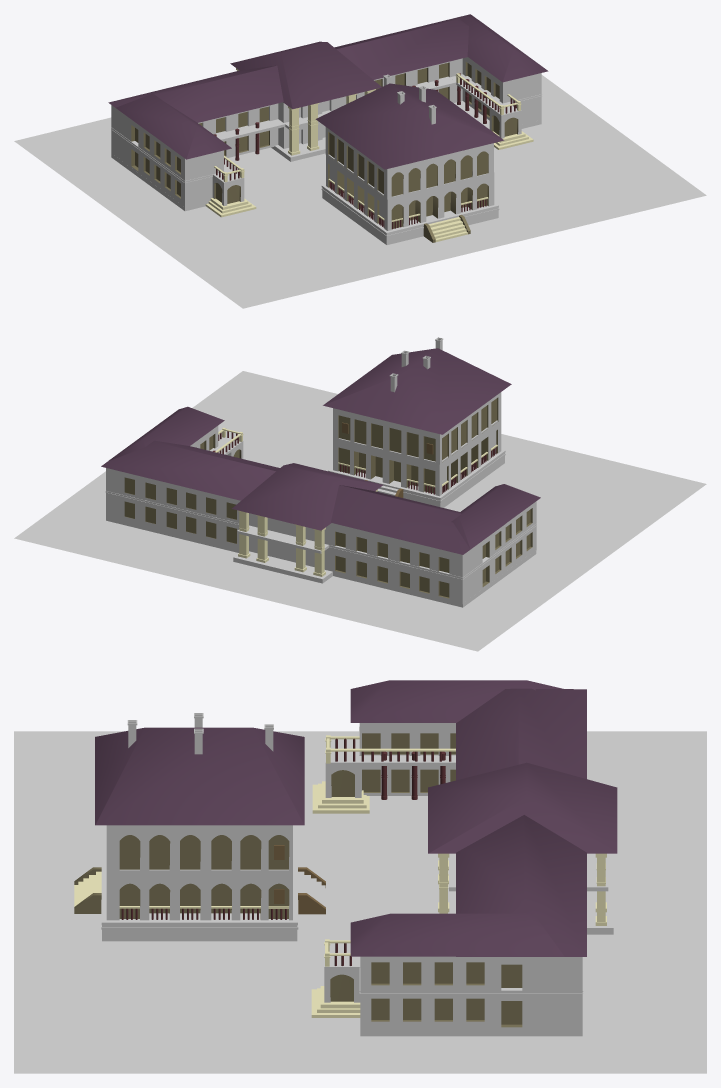
File: 船政学堂.fbx
The picture shows the model from 3 angles, top to bottom: view 1: azimuth 30°, elevation 25°; view 2: azimuth 150°, elevation 25°; view 3: azimuth 270°, elevation 25°; orthographic projection. The views are drawn at different scales.
Parts seen in each view (by area): view 1: 平面, 立方体_2_6, 立方体_1, 立方体_9, 立方体_6, 立方体_31, 立方体_1_3, 立方体_35_3, 立方体_35_2, 挤压_2, 立方体_13, 立方体_9_2 (+15 smaller); view 2: 平面, 立方体_2_6, 立方体_9, 立方体_6, 立方体_1, 立方体_35_2, 立方体_35_3, 立方体_1_3, 立方体_31, 挤压_2, 立方体_5_2, 立方体_9_2 (+15 smaller); view 3: 平面, 立方体_2_6, 立方体_1, 立方体_9, 立方体_6, 立方体_13, 立方体_5, 立方体_31, 立方体_1_4, 立方体_5_2, 立方体_1_3, 立方体_9_2 (+16 smaller).
Boxes of the visible parts, x1,y1,x2,y2 form: 平面: (14,75,706,308); 立方体_2_6: (315,83,504,169); 立方体_1: (230,41,381,109); 立方体_9: (334,14,476,79); 立方体_6: (108,65,283,133); 立方体_31: (116,93,231,159); 立方体_1_3: (326,154,494,230); 立方体_35_3: (111,103,278,180); 立方体_35_2: (111,128,278,207); 挤压_2: (328,131,488,196); 立方体_13: (460,16,548,82); 立方体_9_2: (325,127,493,199); 平面: (14,371,706,651); 立方体_2_6: (323,348,511,434); 立方体_9: (101,440,279,500); 立方体_6: (331,485,503,554); 立方体_1: (231,463,382,530); 立方体_35_2: (327,524,536,604); 立方体_35_3: (327,501,536,577); 立方体_1_3: (333,420,501,496); 立方体_31: (451,484,540,549); 挤压_2: (338,397,498,462); 立方体_5_2: (106,425,240,522); 立方体_9_2: (333,392,501,464); 平面: (14,731,706,1073); 立方体_2_6: (95,727,304,825); 立方体_1: (428,762,617,853); 立方体_9: (456,815,586,956); 立方体_6: (456,688,586,780); 立方体_13: (350,913,564,956); 立方体_5: (360,988,582,1029); 立方体_31: (350,680,563,722); 立方体_1_4: (101,839,298,941); 立方体_5_2: (360,956,582,990); 立方体_1_3: (106,869,292,920); 立方体_9_2: (106,825,292,870).
Bounding box in the file's own units: 3164 × 769 × 2705.
